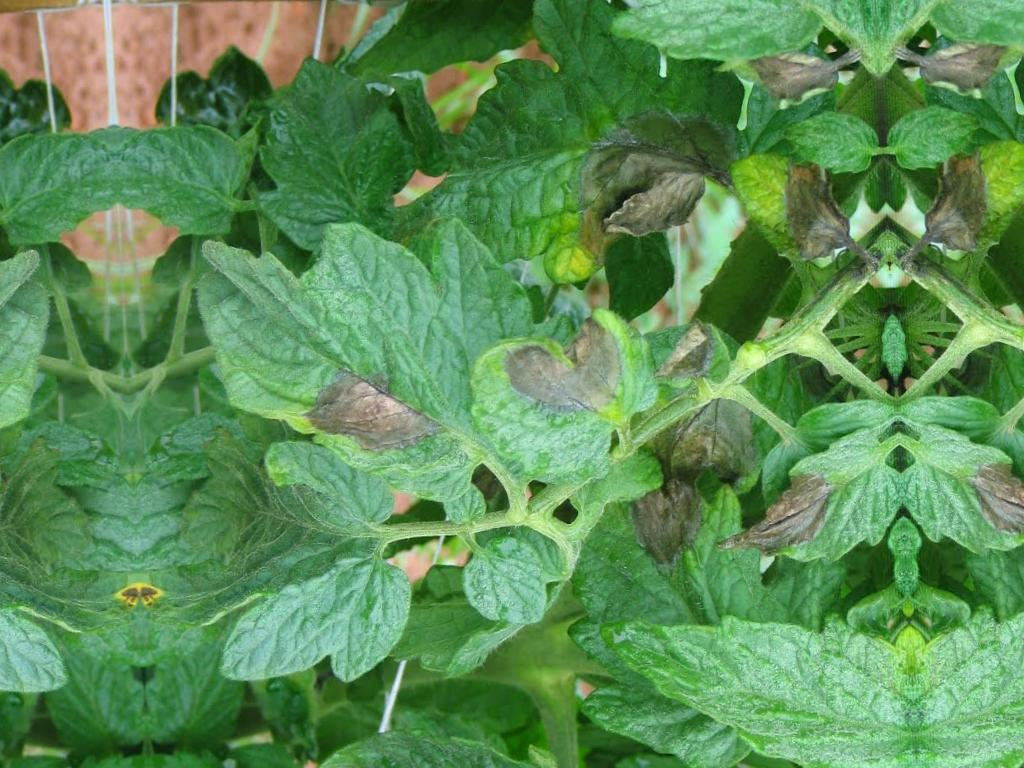Tomato leaf late blight: (184, 208, 548, 520), (399, 0, 778, 276), (466, 306, 649, 492), (726, 430, 902, 559), (713, 139, 874, 272)
